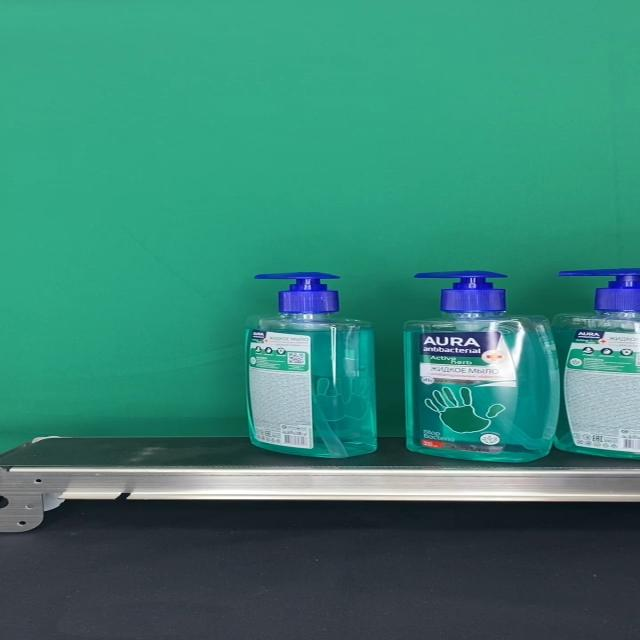Bottle: (403, 270, 561, 462), (244, 272, 378, 458)
Cap: (414, 271, 508, 314), (255, 272, 341, 313)
